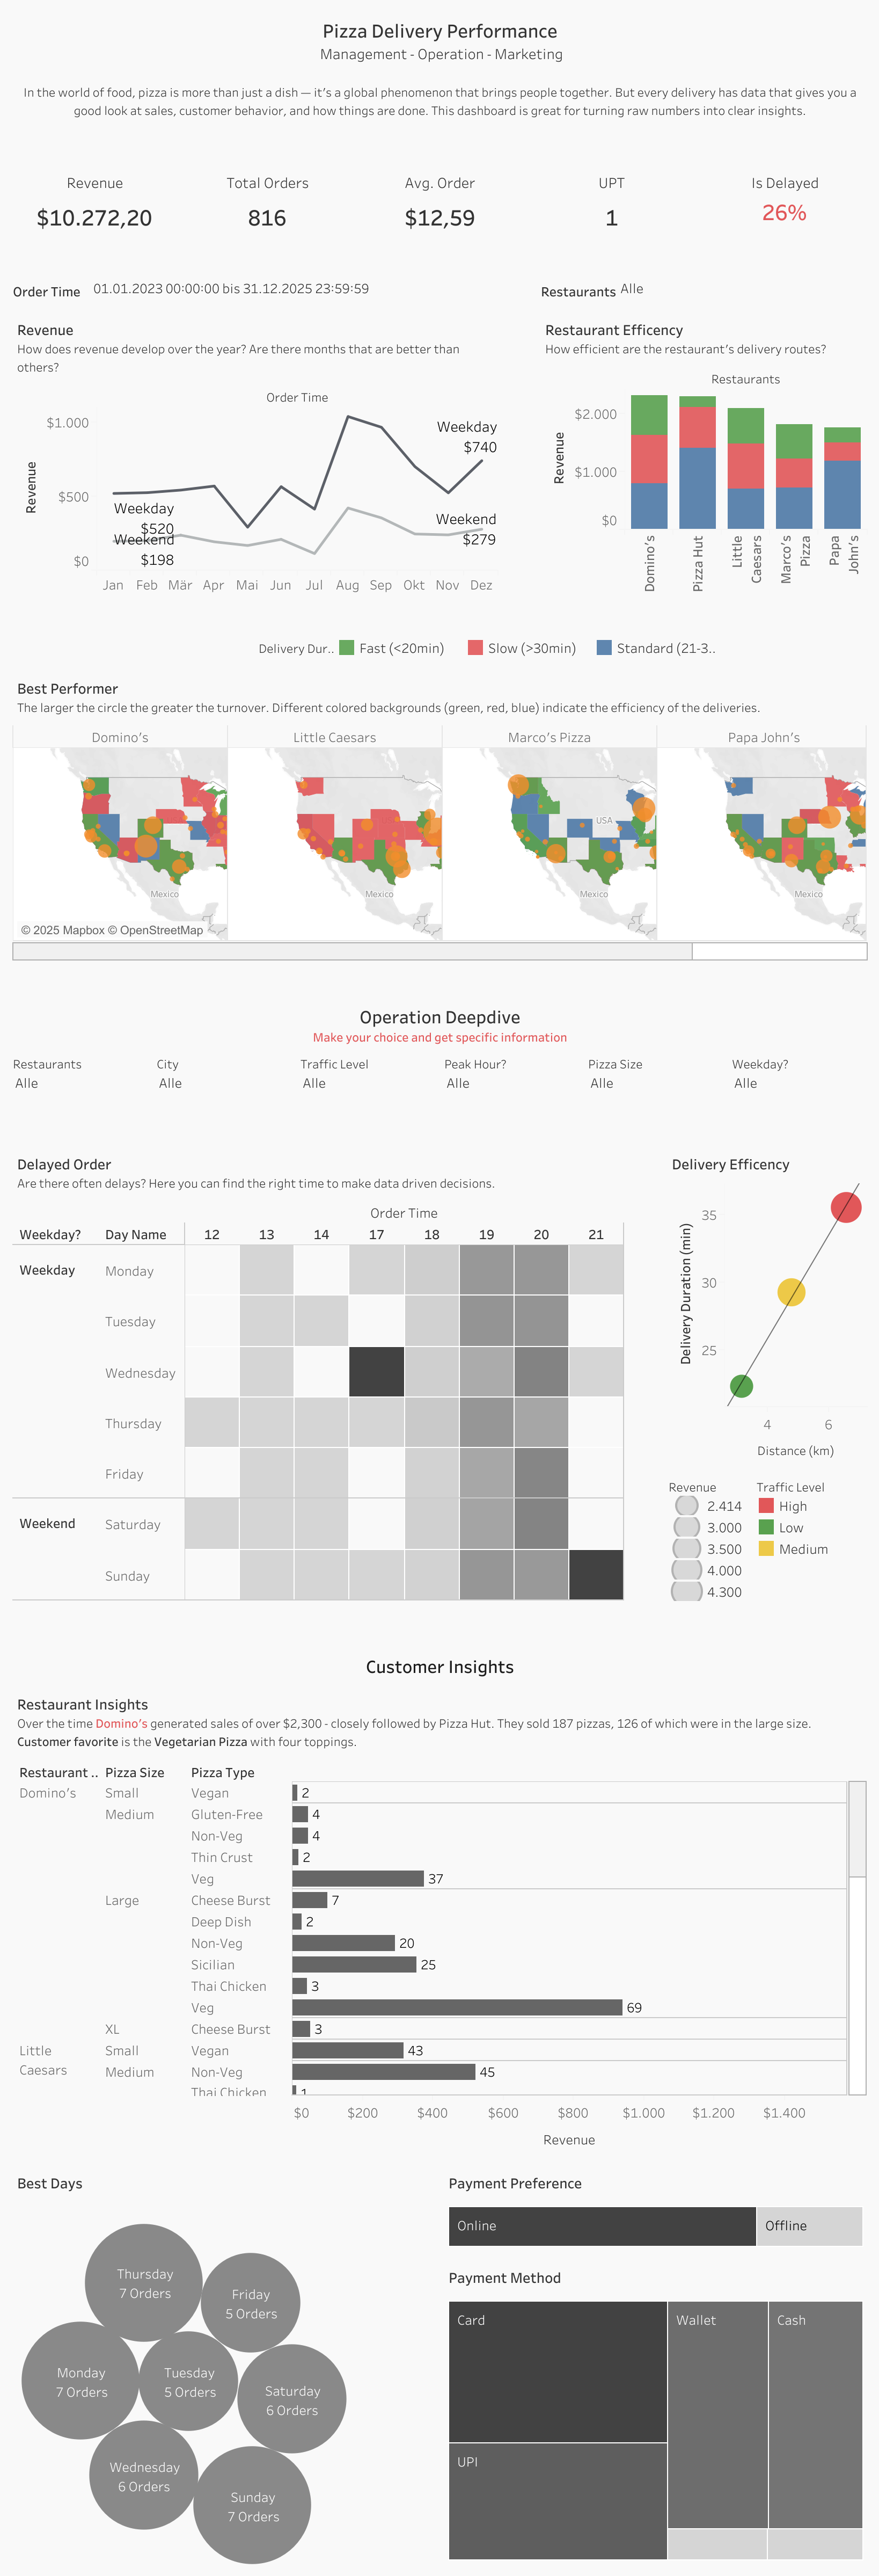

Layout of this report page (visuals, bound fields, positions):
{"tool":"tableau","page":{"name":"Dashboard 1","canvas":[820,2400],"ordinal":0},"visuals":[{"type":"text","box":[8,8,804,125]},{"type":"blank","box":[8,133,804,32]},{"type":"worksheet","title":"Revenue","mark":"Automatic","box":[8,165,160.8,73]},{"type":"worksheet","title":"Total Orders","mark":"Automatic","box":[168.8,165,160.8,73]},{"type":"worksheet","title":"Avg. Order","mark":"Automatic","box":[329.6,165,160.8,73]},{"type":"worksheet","title":"UPT","mark":"Automatic","box":[490.4,165,160.8,73]},{"type":"worksheet","title":"Is Delayed","mark":"Automatic","box":[651.2,165,160.8,73]},{"type":"blank","box":[8,238,804,32]},{"type":"filter","title":"Revenue viz","param":"[federated.01swckf1memwm01fzwvbl0r772bj].[none:Order Time:qk]","box":[8,270,460,32]},{"type":"blank","box":[468,270,32,32]},{"type":"filter","title":"Geo","param":"[federated.01swckf1memwm01fzwvbl0r772bj].[Restaurant Name  (copy)_44473068265512","box":[500,270,312,32]},{"type":"worksheet","title":"Revenue viz","mark":"Line","rows":["Calculation_58054236559446017"],"cols":["Order Time"],"box":[8,302,460,235]},{"type":"blank","box":[468,302,32,235]},{"type":"worksheet","title":"Restaurant Efficency","mark":"Bar","rows":["Calculation_58054236559446017"],"box":[500,302,312,235]},{"type":"blank","box":[8,537,804,32]},{"type":"blank","box":[8,569,229,48]},{"type":"legend","title":"Geo","param":"[federated.01swckf1memwm01fzwvbl0r772bj].[none:Calculation_58054236577996807:nk]","box":[237,569,575,48]},{"type":"worksheet","title":"Geo","mark":"Automatic","box":[8,617,804,349]},{"type":"blank","box":[8,966,804,32]},{"type":"text","box":[8,998,804,45]},{"type":"filter","title":"Delays Heatmap","param":"[federated.01swckf1memwm01fzwvbl0r772bj].[Restaurant Name  (copy)_44473068265512","box":[8,1043,134,51]},{"type":"filter","title":"Delays Heatmap","param":"[federated.01swckf1memwm01fzwvbl0r772bj].[none:Location - Split 1:nk]","box":[142,1043,134,51]},{"type":"filter","title":"Delays Heatmap","param":"[federated.01swckf1memwm01fzwvbl0r772bj].[none:Traffic Level:nk]","box":[276,1043,134,51]},{"type":"filter","title":"Delays Heatmap","param":"[federated.01swckf1memwm01fzwvbl0r772bj].[none:Calculation_43206431769481216:nk]","box":[410,1043,134,51]},{"type":"filter","title":"Delays Heatmap","param":"[federated.01swckf1memwm01fzwvbl0r772bj].[none:Pizza Size:nk]","box":[544,1043,134,51]},{"type":"filter","title":"Delays Heatmap","param":"[federated.01swckf1memwm01fzwvbl0r772bj].[none:Calculation_58054236558209024:nk]","box":[678,1043,134,51]},{"type":"blank","box":[8,1094,804,32]},{"type":"worksheet","title":"Delays Heatmap","mark":"Square","rows":["Calculation_58054236558209024","Calculation_43206431784509445"],"cols":["Order Time"],"box":[8,1126,578,369]},{"type":"blank","box":[586,1126,32,369]},{"type":"worksheet","title":"Efficency Scatter","mark":"Circle","rows":["Delivery Duration (min)"],"cols":["Distance (km)"],"box":[618,1126,194,244]},{"type":"legend","title":"Efficency Scatter","param":"[federated.01swckf1memwm01fzwvbl0r772bj].[usr:Calculation_58054236559446017:qk]","box":[618,1370,82,125]},{"type":"legend","title":"Efficency Scatter","param":"[federated.01swckf1memwm01fzwvbl0r772bj].[none:Traffic Level:nk]","box":[700,1370,112,125]},{"type":"blank","box":[8,1495,804,41]},{"type":"text","box":[8,1536,804,30]},{"type":"worksheet","title":"Restaurant Sales Overview","mark":"Automatic","rows":["Pizza Size","Pizza Type"],"cols":["Price ($)"],"box":[8,1566,804,446]},{"type":"worksheet","title":"Best Day","mark":"Circle","box":[8,2012,402,380]},{"type":"worksheet","title":"Online / Offline Preference","mark":"Automatic","box":[410,2012,402,89]},{"type":"worksheet","title":"Payment Method 1","mark":"Automatic","box":[410,2101,402,291]}]}

Visuals, with their boxes in screenshot pixels (x1, y1, x2, y2), scaled from the page's 820x2400 canvas onto the 879x2576 screenshot:
text: <region>9, 9, 870, 143</region>
blank: <region>9, 143, 870, 177</region>
"Revenue" worksheet: <region>9, 177, 181, 256</region>
"Total Orders" worksheet: <region>181, 177, 353, 256</region>
"Avg. Order" worksheet: <region>353, 177, 526, 256</region>
"UPT" worksheet: <region>526, 177, 698, 256</region>
"Is Delayed" worksheet: <region>698, 177, 870, 256</region>
blank: <region>9, 256, 870, 290</region>
"Revenue viz" filter: <region>9, 290, 502, 324</region>
blank: <region>502, 290, 536, 324</region>
"Geo" filter: <region>536, 290, 870, 324</region>
"Revenue viz" worksheet (Line marks): <region>9, 324, 502, 577</region>
blank: <region>502, 324, 536, 577</region>
"Restaurant Efficency" worksheet (Bar marks): <region>536, 324, 870, 577</region>
blank: <region>9, 577, 870, 611</region>
blank: <region>9, 611, 254, 662</region>
"Geo" legend: <region>254, 611, 870, 662</region>
"Geo" worksheet: <region>9, 662, 870, 1037</region>
blank: <region>9, 1037, 870, 1071</region>
text: <region>9, 1071, 870, 1119</region>
"Delays Heatmap" filter: <region>9, 1119, 152, 1174</region>
"Delays Heatmap" filter: <region>152, 1119, 296, 1174</region>
"Delays Heatmap" filter: <region>296, 1119, 439, 1174</region>
"Delays Heatmap" filter: <region>439, 1119, 583, 1174</region>
"Delays Heatmap" filter: <region>583, 1119, 727, 1174</region>
"Delays Heatmap" filter: <region>727, 1119, 870, 1174</region>
blank: <region>9, 1174, 870, 1209</region>
"Delays Heatmap" worksheet (Square marks): <region>9, 1209, 628, 1605</region>
blank: <region>628, 1209, 662, 1605</region>
"Efficency Scatter" worksheet (Circle marks): <region>662, 1209, 870, 1471</region>
"Efficency Scatter" legend: <region>662, 1471, 750, 1605</region>
"Efficency Scatter" legend: <region>750, 1471, 870, 1605</region>
blank: <region>9, 1605, 870, 1649</region>
text: <region>9, 1649, 870, 1681</region>
"Restaurant Sales Overview" worksheet: <region>9, 1681, 870, 2159</region>
"Best Day" worksheet (Circle marks): <region>9, 2159, 439, 2567</region>
"Online / Offline Preference" worksheet: <region>439, 2159, 870, 2255</region>
"Payment Method 1" worksheet: <region>439, 2255, 870, 2567</region>
